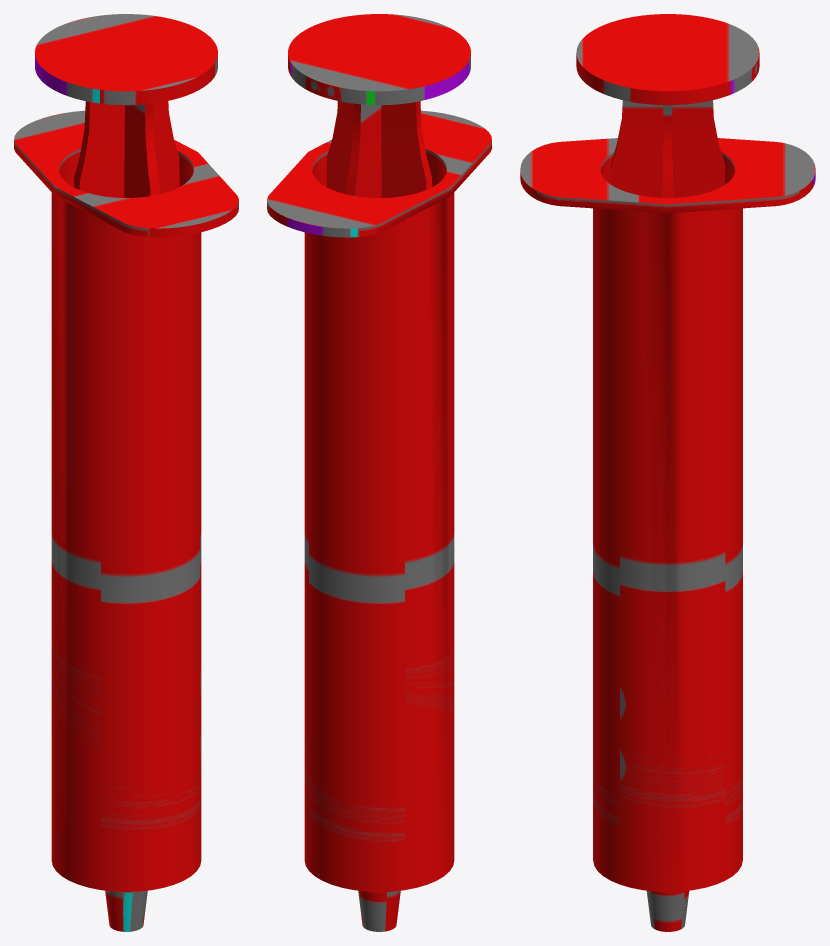
File: Syringe20ml.fbx
The picture shows the model from 3 angles, left to right: view 1: azimuth 30°, elevation 25°; view 2: azimuth 150°, elevation 25°; view 3: azimuth 270°, elevation 25°; orthographic projection.
Parts seen in each view (by area): view 1: syringe, Cap_2, InsideSyringe_1, top, syringeInside; view 2: syringe, Cap_2, InsideSyringe_1, top, syringeInside; view 3: syringe, Cap_2, InsideSyringe_1, top.
Part boxes in pixels (<box>): syringe: <box>14,110,238,931</box>; Cap_2: <box>35,14,217,91</box>; InsideSyringe_1: <box>74,101,179,197</box>; top: <box>35,55,217,105</box>; syringeInside: <box>59,148,193,187</box>; syringe: <box>267,110,491,931</box>; Cap_2: <box>288,14,470,91</box>; InsideSyringe_1: <box>326,101,432,197</box>; top: <box>288,55,470,105</box>; syringeInside: <box>312,149,446,186</box>; syringe: <box>520,138,815,931</box>; Cap_2: <box>576,14,759,91</box>; InsideSyringe_1: <box>610,100,725,197</box>; top: <box>576,53,759,105</box>.
Bounding box in the file's own units: 4.26 × 22.37 × 6.87.
